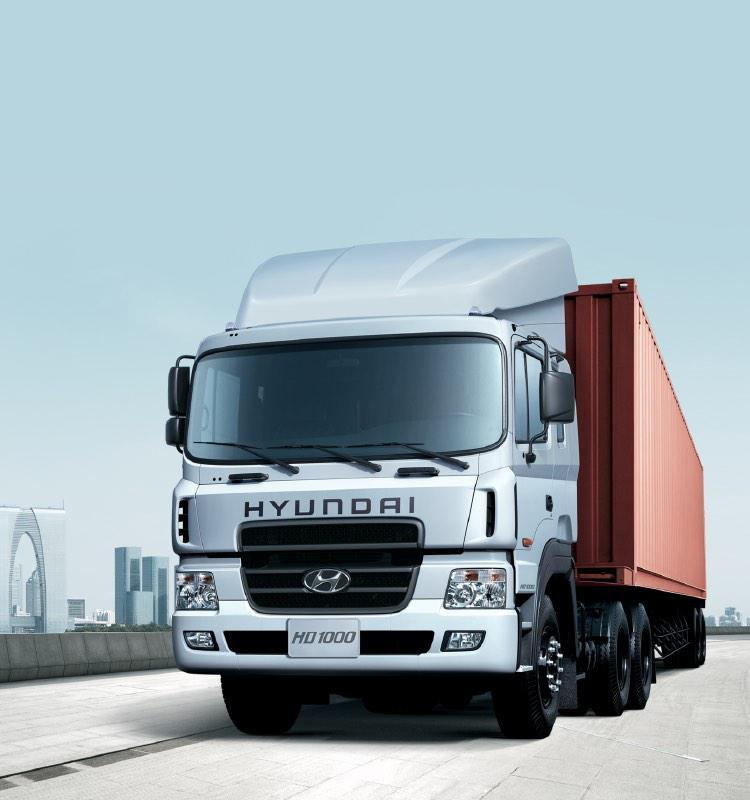truck: (172, 229, 700, 743)
